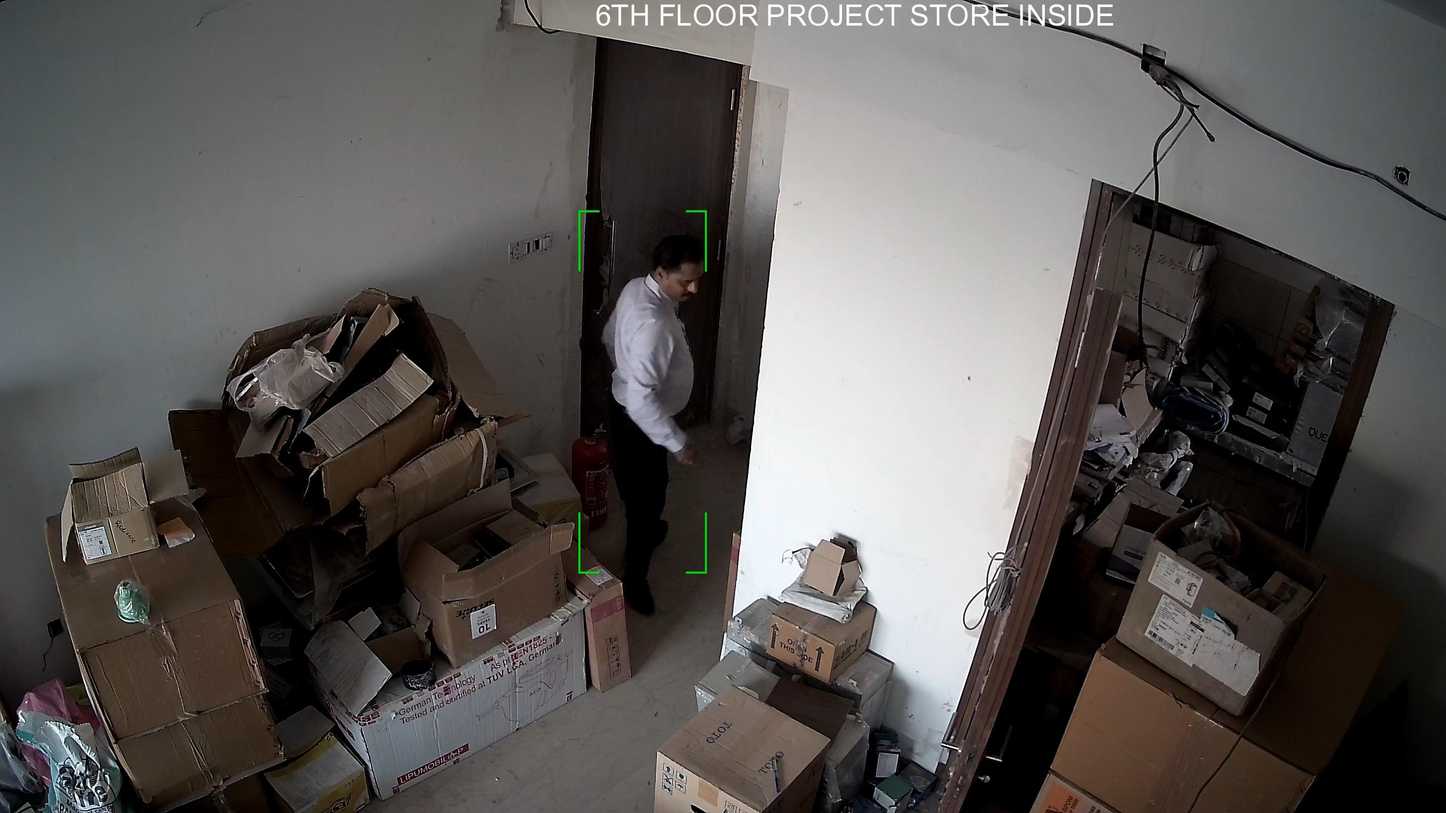Door-Close: (571, 43, 744, 486)
